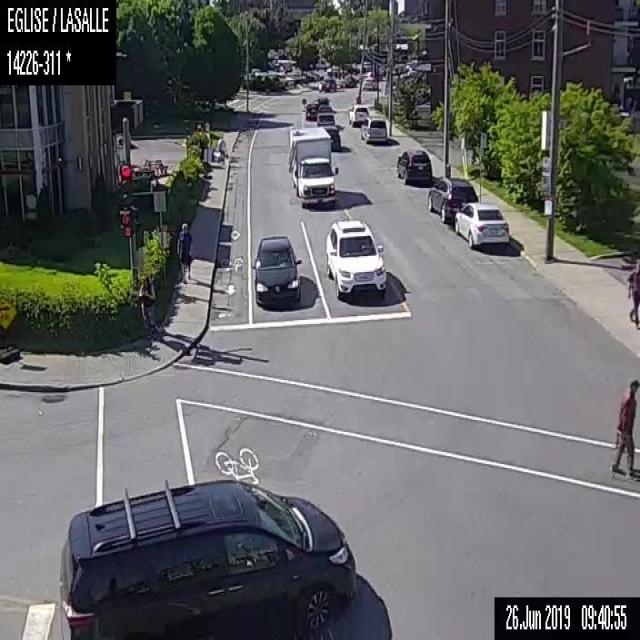pedestrian: (610, 378, 639, 482), (138, 274, 158, 346), (175, 222, 192, 282), (625, 258, 639, 330), (217, 134, 228, 166)
vehicle: (57, 476, 356, 639), (324, 219, 386, 300), (288, 125, 338, 208), (253, 235, 302, 301), (453, 201, 508, 248), (426, 174, 478, 222), (396, 148, 431, 185), (359, 115, 387, 143), (320, 125, 340, 152), (346, 103, 370, 125), (315, 105, 337, 123), (304, 100, 319, 120), (318, 77, 336, 92), (364, 75, 378, 89), (344, 75, 356, 86), (317, 97, 329, 106)
